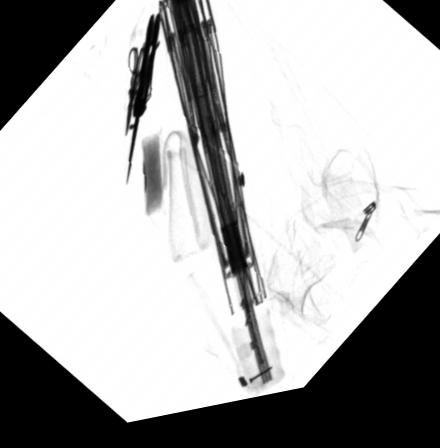Knife: (126, 19, 160, 187)
Scissors: (124, 50, 152, 142)
